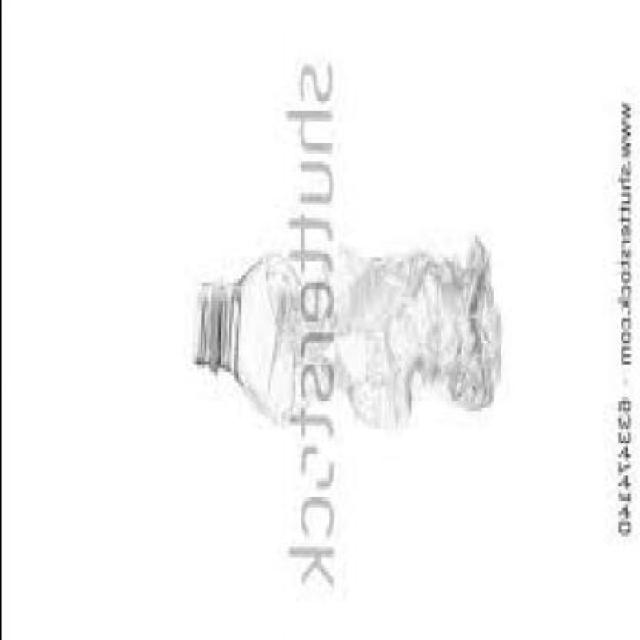PLASTIC: (192, 236, 496, 418)
